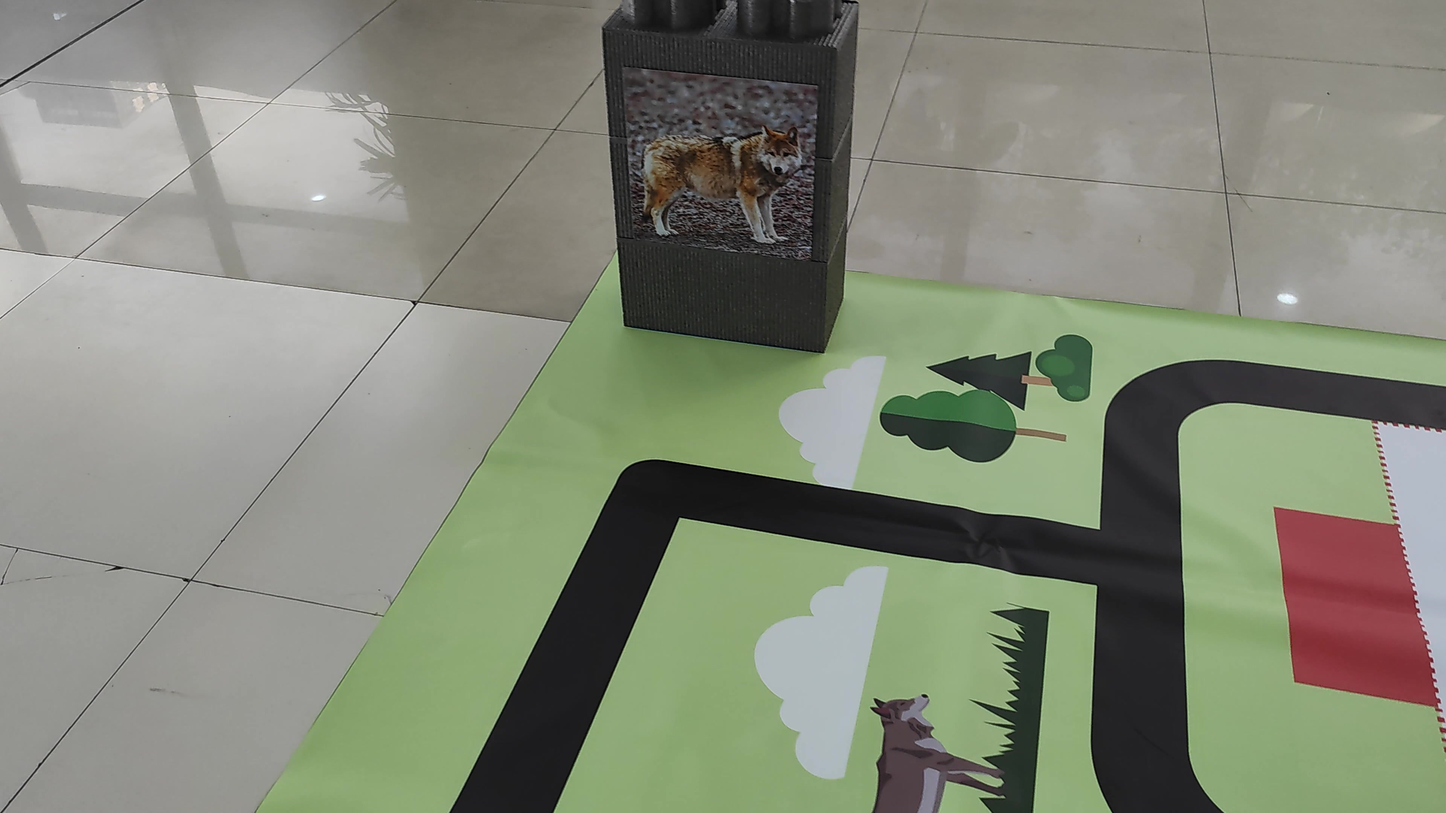wolf: (623, 73, 802, 244)
